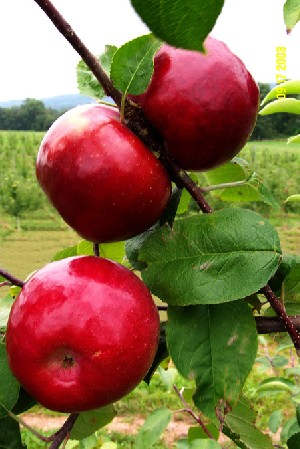apple: (4, 253, 162, 416), (32, 100, 174, 245), (129, 31, 264, 176)
